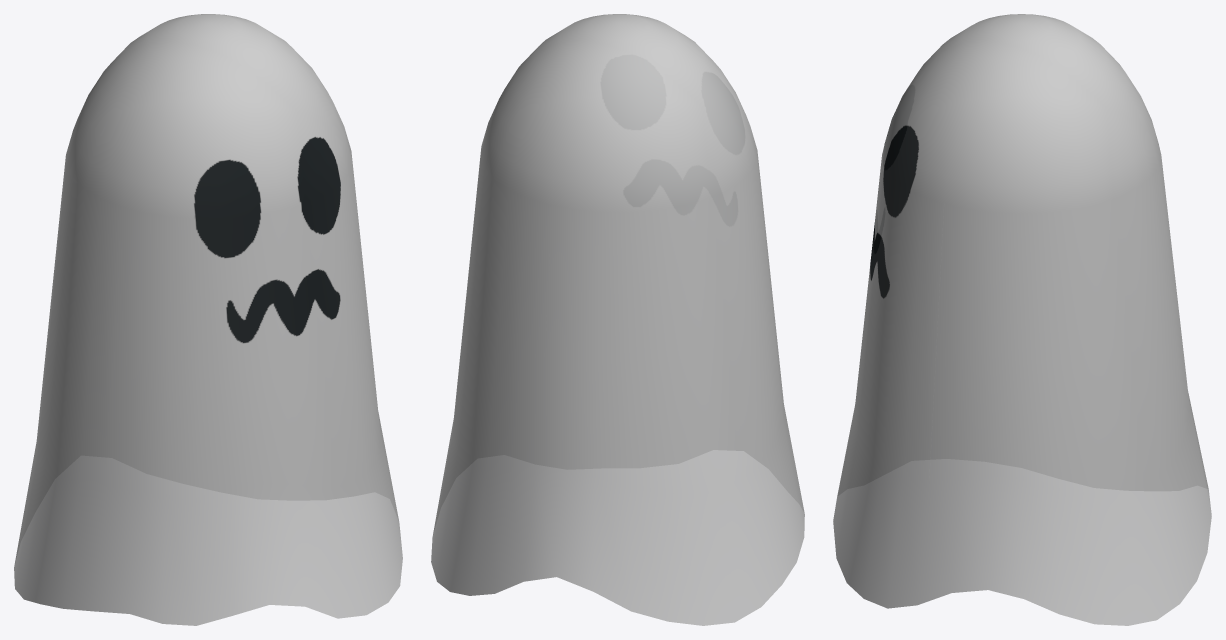
The model's file is Player.fbx.
3 renders of one model, left to right at view 1: azimuth 30°, elevation 25°; view 2: azimuth 150°, elevation 25°; view 3: azimuth 270°, elevation 25°, orthographic. The views are drawn at different scales.
Parts seen in each view (by area): view 1: FantasmaJogavel; view 2: FantasmaJogavel; view 3: FantasmaJogavel.
Boxes of the visible parts, x1=… form: FantasmaJogavel: x1=14, y1=14, x2=402, y2=625; FantasmaJogavel: x1=431, y1=14, x2=804, y2=625; FantasmaJogavel: x1=833, y1=14, x2=1211, y2=625.
Bounding box in the file's own units: 311 × 491 × 312.
